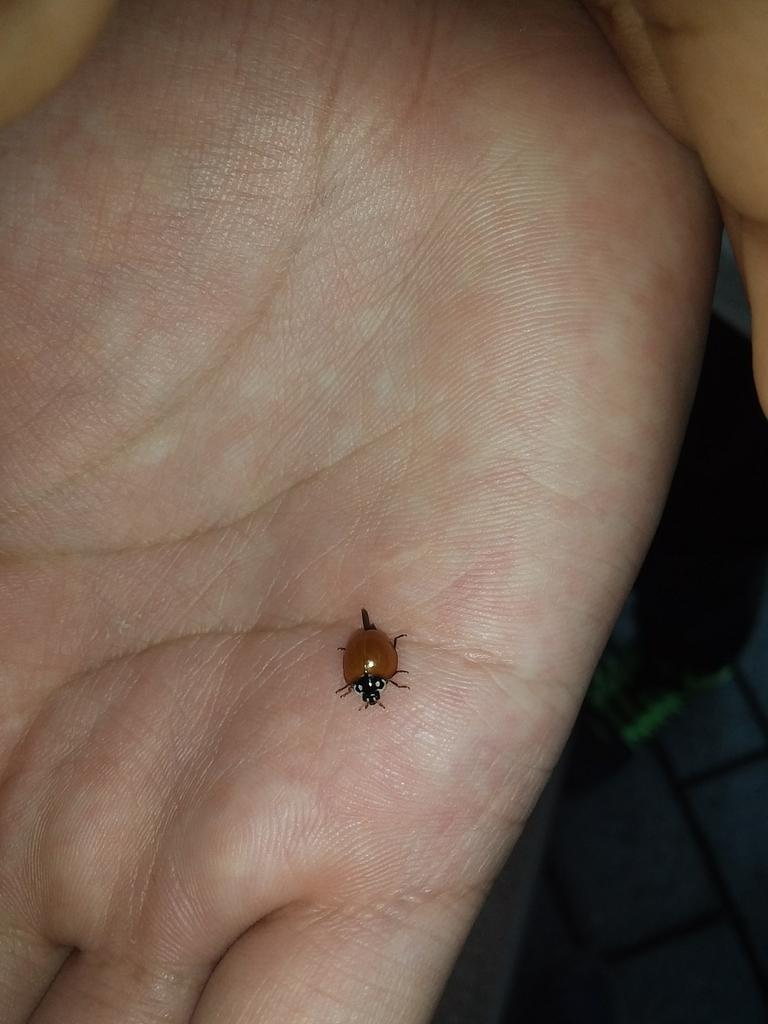ladybug: (335, 608, 415, 713)
